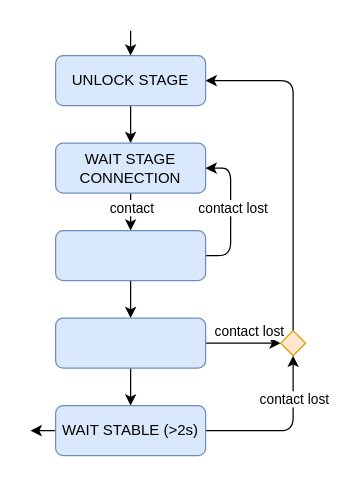
Image size: 350x478. Some labels were removed from this diagram. The shapes that lost their labels are listed below. From the top down, each one's centre as x and y in pixels, then its label:
At [130,255]: "WAIT STABLE (>1s)".
At [130,342]: "LOCK STAGE".
